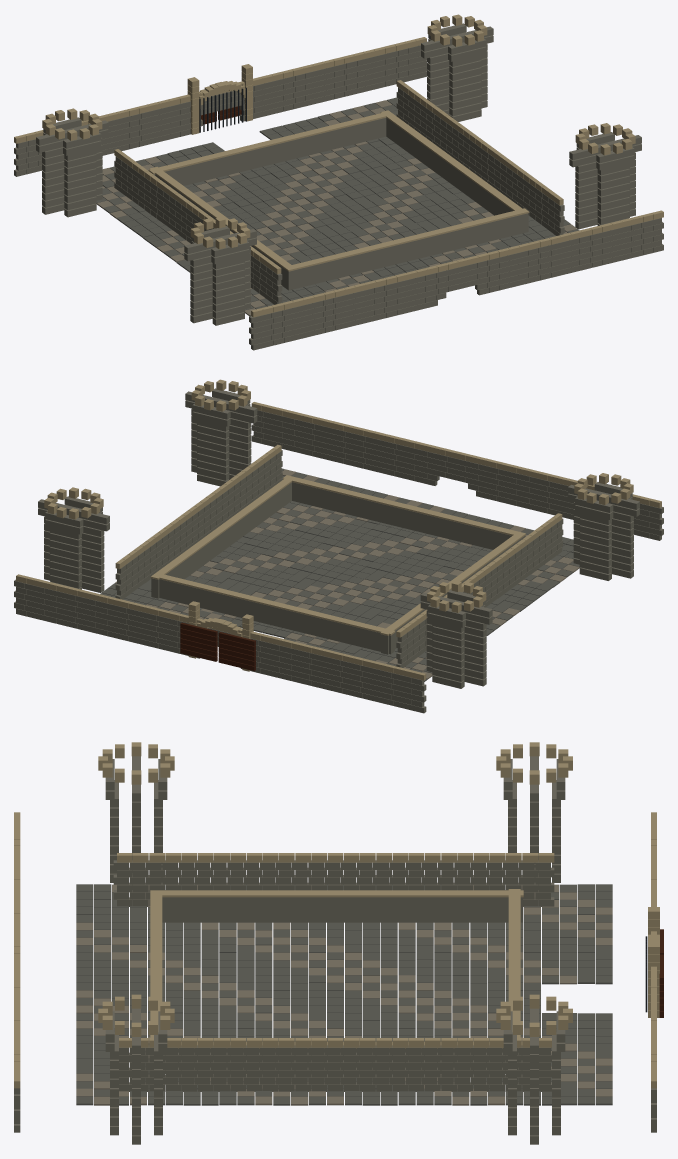
The model's file is coastal_fortress_landmark.obj.
3 views of the same model, one above another, from view 1: azimuth 30°, elevation 25°; view 2: azimuth 150°, elevation 25°; view 3: azimuth 270°, elevation 25° (orthographic). The views are drawn at different scales.
Bounding box in the file's own units: 70.78 × 12.76 × 65.32.
